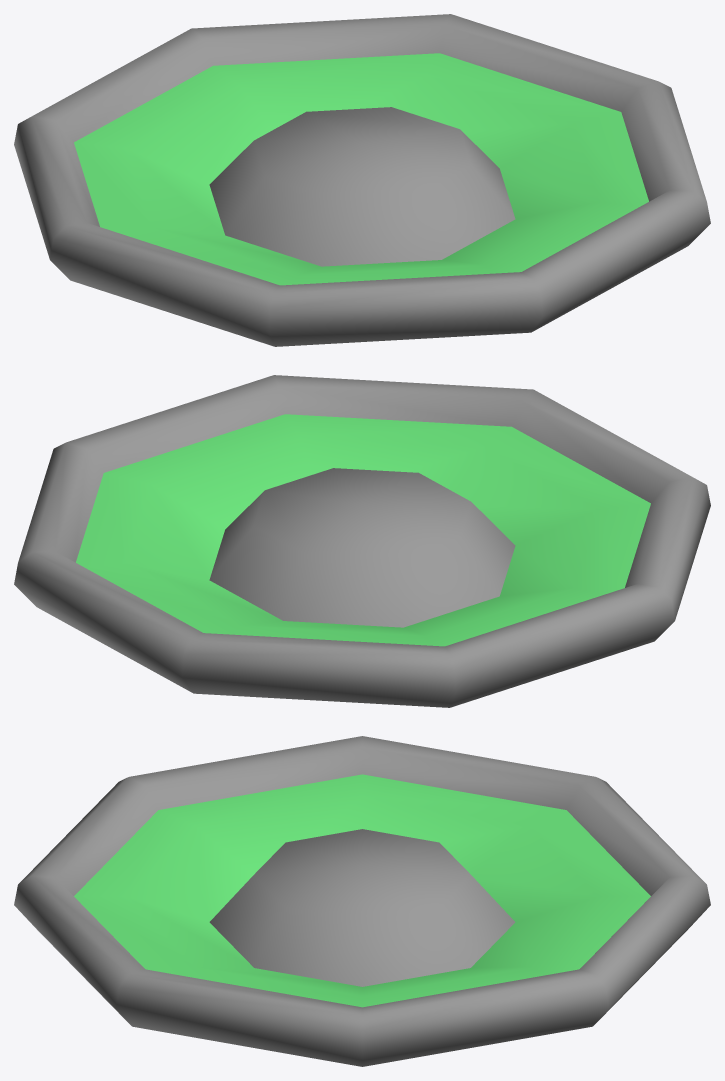
File: NoteCatcher.fbx
The picture shows the model from 3 angles, top to bottom: view 1: azimuth 30°, elevation 25°; view 2: azimuth 150°, elevation 25°; view 3: azimuth 270°, elevation 25°; orthographic projection. The views are drawn at different scales.
Parts seen in each view (by area): view 1: Cylinder.002; view 2: Cylinder.002; view 3: Cylinder.002.
Boxes of the visible parts, left/top/right/bottom form: Cylinder.002: left=14, top=14, right=710, bottom=346; Cylinder.002: left=14, top=375, right=710, bottom=707; Cylinder.002: left=14, top=736, right=710, bottom=1066.
Bounding box in the file's own units: 198 × 19.76 × 198.
